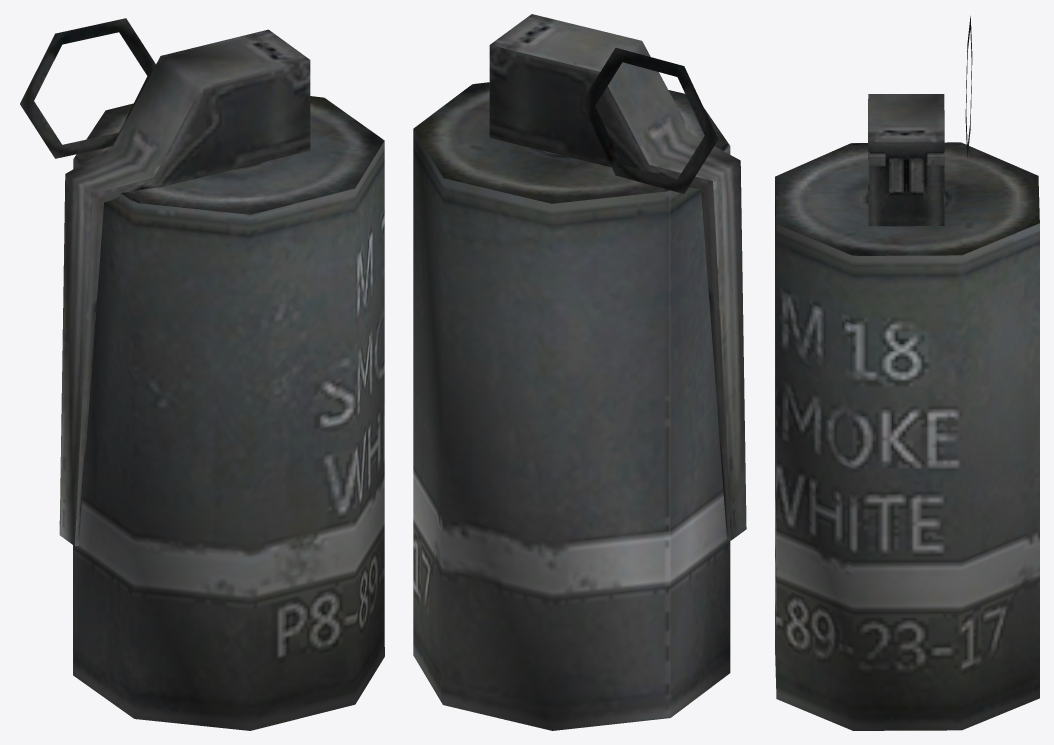
Rendered from Heavy_Throwable_sl_02_Main_(000030).glb.
3 views of the same model, side by side, from view 1: azimuth 30°, elevation 25°; view 2: azimuth 150°, elevation 25°; view 3: azimuth 270°, elevation 25° (orthographic). The views are drawn at different scales.
Visible parts, largest first — view 1: sl_02; view 2: sl_02; view 3: sl_02.
Boxes of the visible parts, <box> form: sl_02: <box>20,18,384,730</box>; sl_02: <box>413,14,746,730</box>; sl_02: <box>775,16,1039,730</box>.
Bounding box in the file's own units: 0.0882 × 0.1783 × 0.0719.
1 material, 1 textured.
